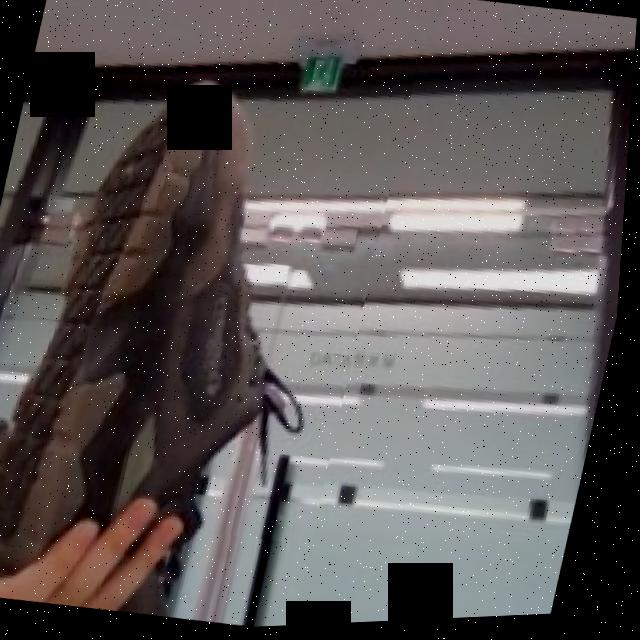shoe: (0, 22, 420, 640)
